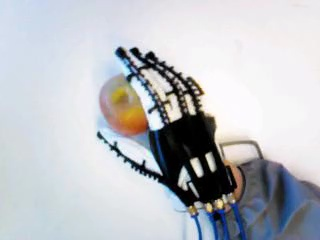apple: (100, 71, 153, 135)
hand: (92, 46, 235, 215)
